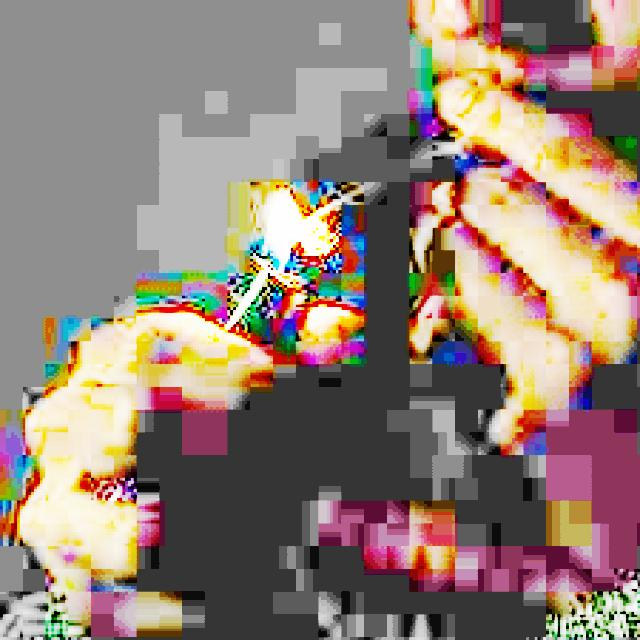api: (254, 186, 311, 280)
